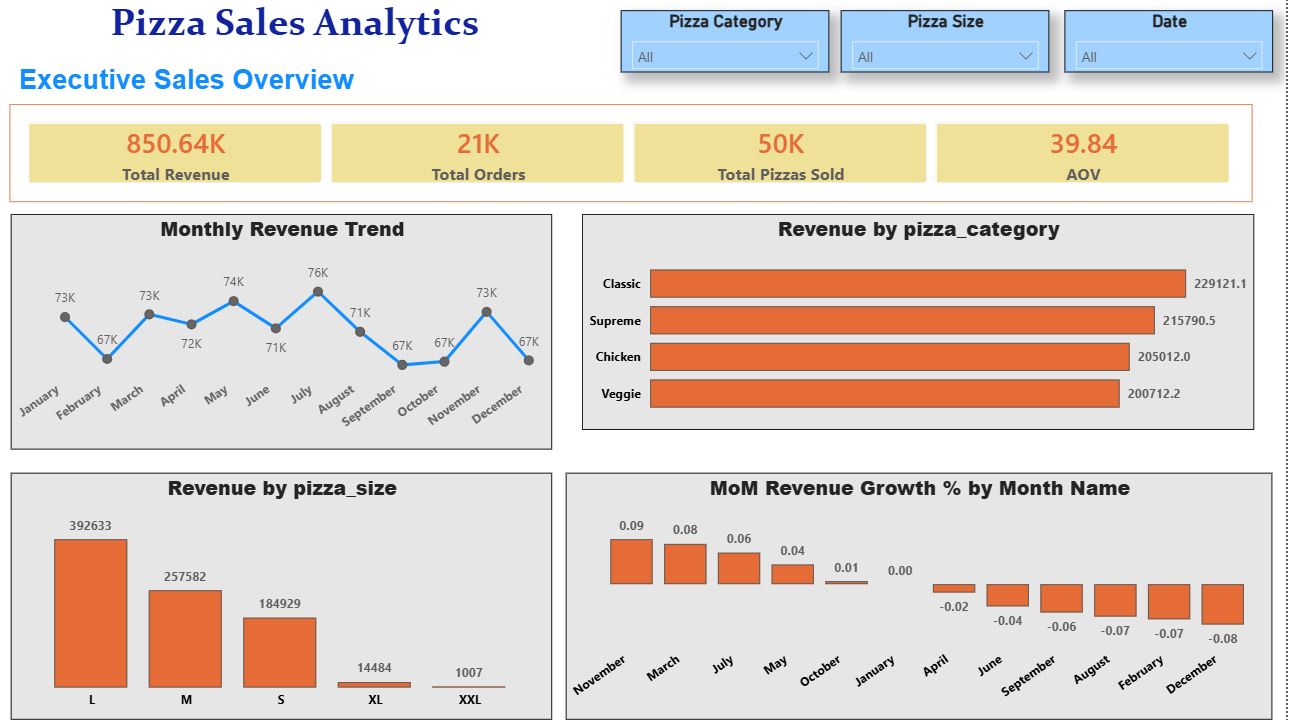

What the dashboard file says about the page in this screenshot:
{"tool":"powerbi","page":{"name":"Executive  Sales Oveview","canvas":[1280,720],"ordinal":0},"visuals":[{"type":"cardVisual","fields":{"Data":["Measure Table.Total Revenue","Measure Table.Total Orders","Measure Table.Total Pizzas Sold","Measure Table.AOV"]},"box":[31.6,107,1215.8,96.1],"z":0},{"type":"lineChart","title":"Monthly Revenue Trend","fields":{"Category":["DateTable.Date.Variation.Date Hierarchy.Month"],"Y":["Measure Table.Total Revenue"]},"box":[32.9,215.4,529.7,230.5],"z":1000},{"type":"barChart","title":"Revenue by pizza_category","fields":{"Category":["Pizza_Sales.pizza_category"],"Y":["Measure Table.Total Revenue"]},"box":[591.4,215.4,657.3,211.3],"z":2000},{"type":"textbox","box":[31.8,0,530.7,77],"z":3000},{"type":"clusteredColumnChart","title":" Revenue by pizza_size","fields":{"Category":["Pizza_Sales.pizza_size"],"Y":["Measure Table.Total Revenue"]},"box":[18.3,464.7,529.5,240.9],"z":4000},{"type":"clusteredColumnChart","fields":{"Y":["Measure Table.MoM Revenue Growth %"],"Category":["DateTable.Month Name"]},"box":[588.2,446.3,692.1,240.9],"z":5000},{"type":"textbox","box":[31.8,46.5,346.1,61.1],"z":6000},{"type":"slicer","title":"Pizza Category","fields":{"Values":["Pizza_Sales.pizza_category"]},"box":[629.8,15.9,204.2,61.1],"z":7000},{"type":"slicer","title":"Pizza Size","fields":{"Values":["Pizza_Sales.pizza_size"]},"box":[845,15.9,204.2,61.1],"z":8000},{"type":"slicer","title":"Date","fields":{"Values":["DateTable.Date","DateTable.Date.Variation.Date Hierarchy.Month"]},"box":[1063.9,15.9,204.2,61.1],"z":9000}]}

Visuals, with their boxes in screenshot pixels (x1, y1, x2, y2), scaled from the page's 1280x720 canvas onto the 1300x720 screenshot:
cardVisual - Measure Table.Total Revenue x Measure Table.Total Orders: 32 107 1267 203
"Monthly Revenue Trend" lineChart: 33 215 571 446
"Revenue by pizza_category" barChart: 601 215 1268 427
textbox: 32 0 571 77
" Revenue by pizza_size" clusteredColumnChart: 19 465 556 706
clusteredColumnChart - Measure Table.MoM Revenue Growth % x DateTable.Month Name: 597 446 1299 687
textbox: 32 46 384 108
"Pizza Category" slicer: 640 16 847 77
"Pizza Size" slicer: 858 16 1066 77
"Date" slicer: 1081 16 1288 77
